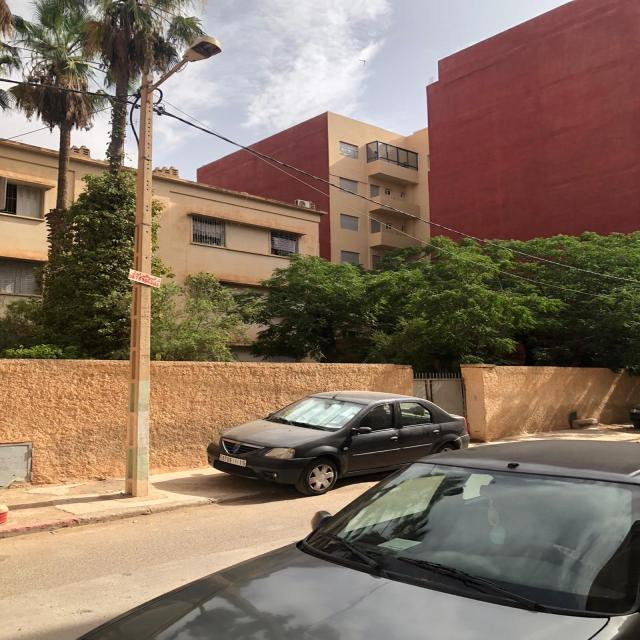Electric pole: (125, 35, 220, 498)
